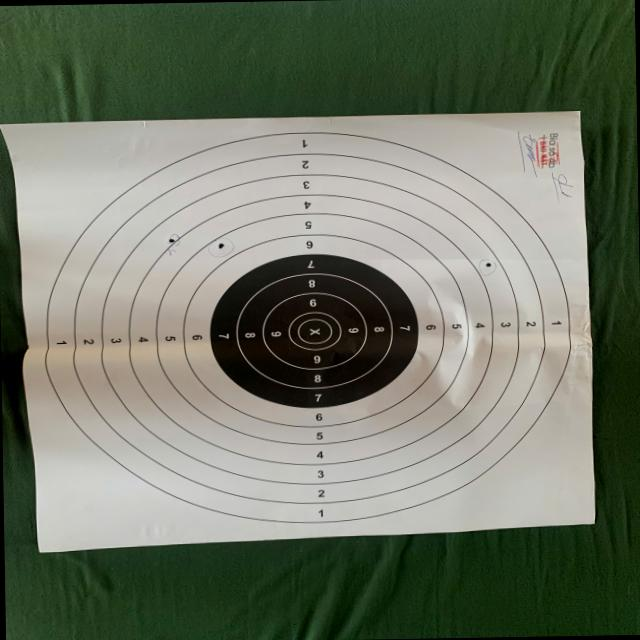bullet: (487, 261, 491, 269), (167, 239, 174, 242), (219, 242, 222, 249)
target: (5, 112, 595, 549)
